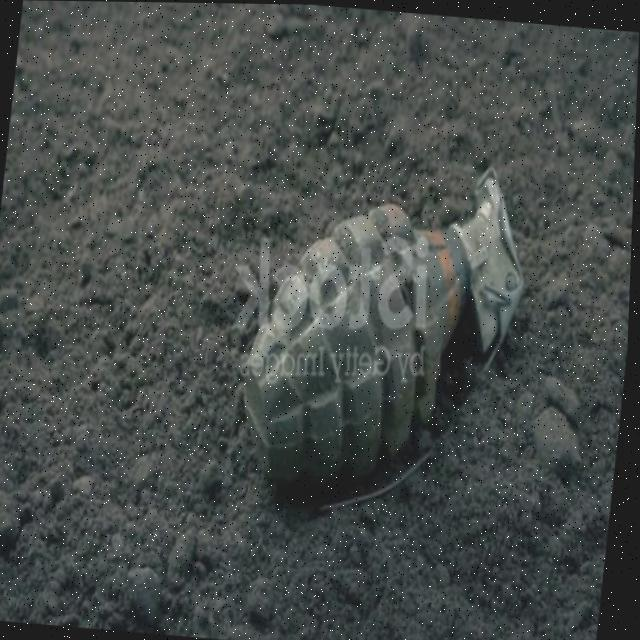grenade: (215, 143, 554, 524)
